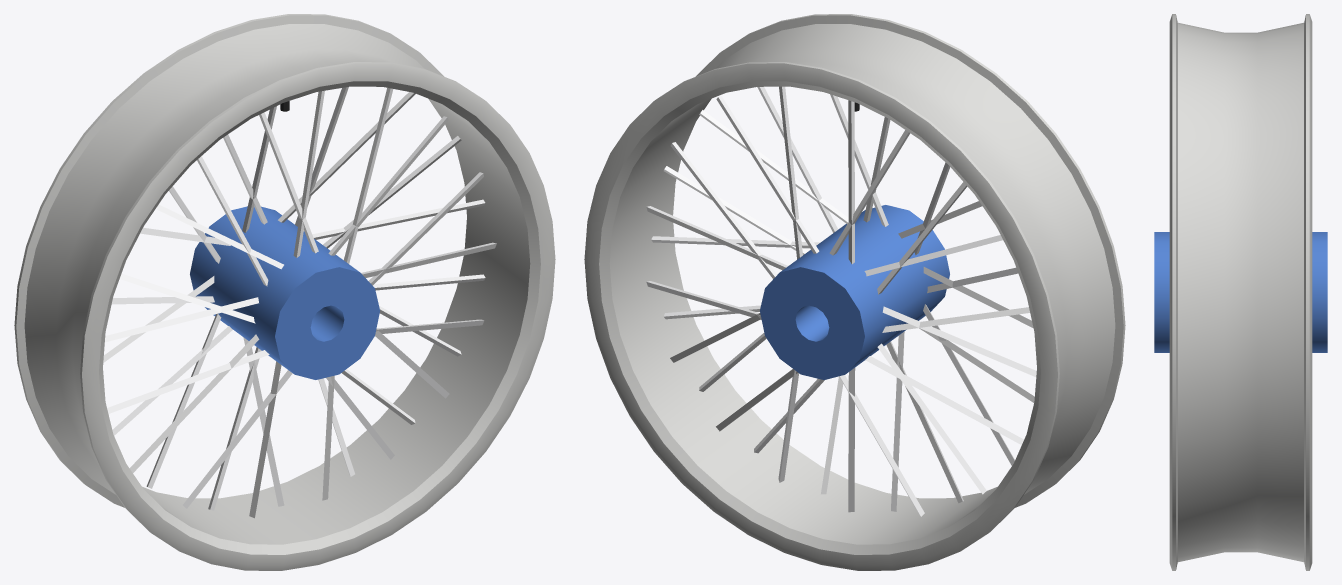
Rendered from sm_17_black_gold_lod1.glb.
3 renders of one model, left to right at view 1: azimuth 30°, elevation 25°; view 2: azimuth 150°, elevation 25°; view 3: azimuth 270°, elevation 25°, orthographic.
Visible parts, largest first — view 1: sm_17_black_gold_lod1; view 2: sm_17_black_gold_lod1; view 3: sm_17_black_gold_lod1.
Boxes of the visible parts, left/top/right/bottom form: sm_17_black_gold_lod1: left=14, top=14, right=555, bottom=570; sm_17_black_gold_lod1: left=584, top=14, right=1125, bottom=570; sm_17_black_gold_lod1: left=1154, top=14, right=1327, bottom=570.
Size of the model in its own units: 0.4498 by 0.4498 by 0.14.
